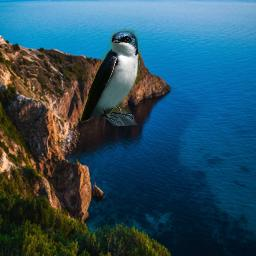Swallow: (80, 29, 142, 126)
